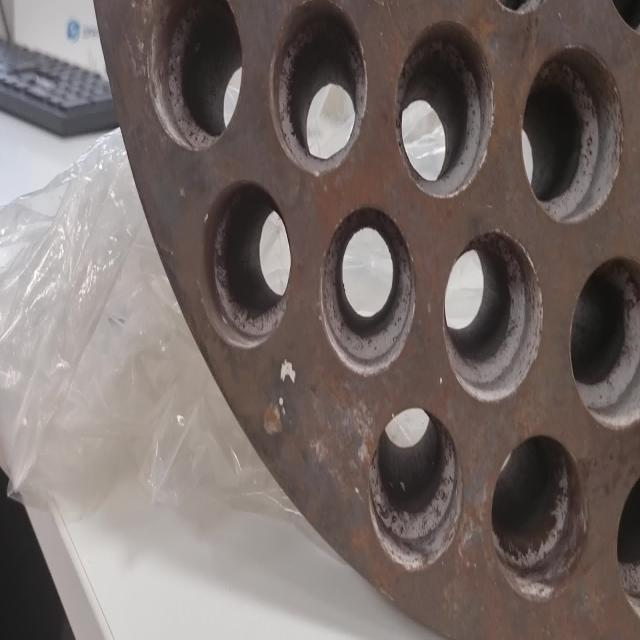Hole: (520, 43, 623, 225), (394, 18, 494, 200), (442, 229, 543, 403), (270, 0, 367, 175), (319, 205, 416, 376), (490, 433, 588, 601), (200, 178, 293, 348), (369, 406, 462, 571), (147, 1, 245, 152), (569, 254, 640, 431)
